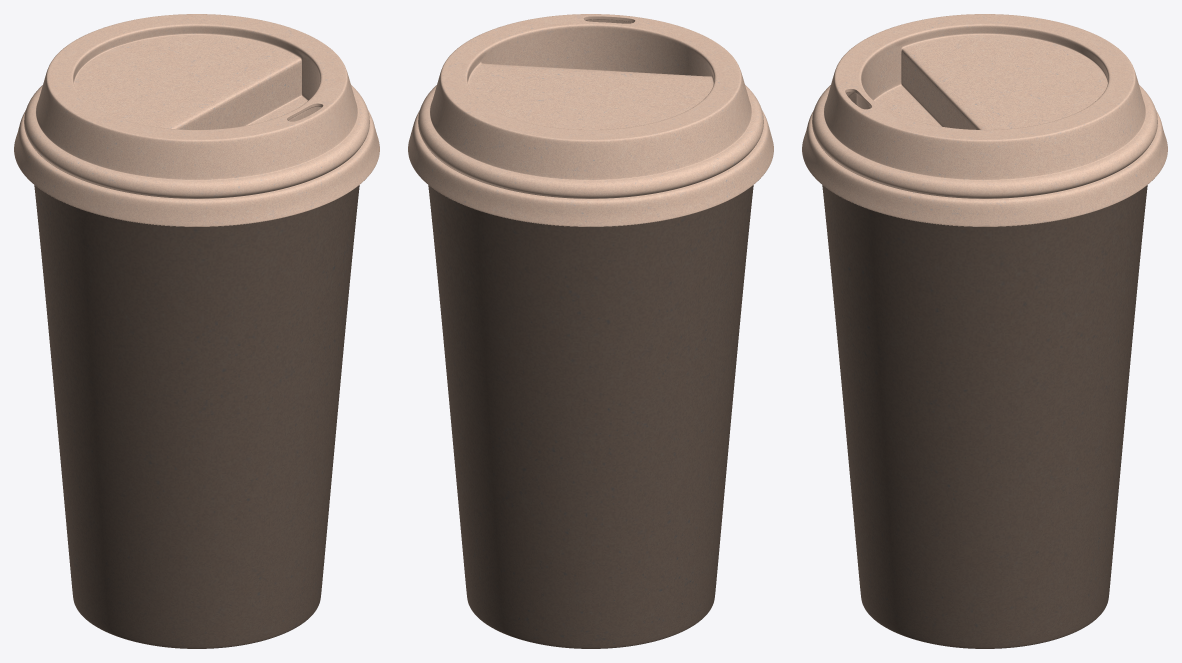
The model's file is cafellevar.glb.
3 renders of one model, left to right at view 1: azimuth 30°, elevation 25°; view 2: azimuth 150°, elevation 25°; view 3: azimuth 270°, elevation 25°, orthographic.
Visible parts, largest first — view 1: Object_2, Object_3; view 2: Object_2, Object_3; view 3: Object_2, Object_3.
Boxes of the visible parts, box(x1,y1,x2,y2) form: Object_2: box(34, 185, 359, 648); Object_3: box(14, 14, 379, 226); Object_2: box(428, 185, 753, 648); Object_3: box(408, 14, 773, 226); Object_2: box(822, 93, 1147, 648); Object_3: box(802, 14, 1167, 226).
Bounding box in the file's own units: 9.88 × 15.51 × 9.88.
2 materials, 2 textured.
